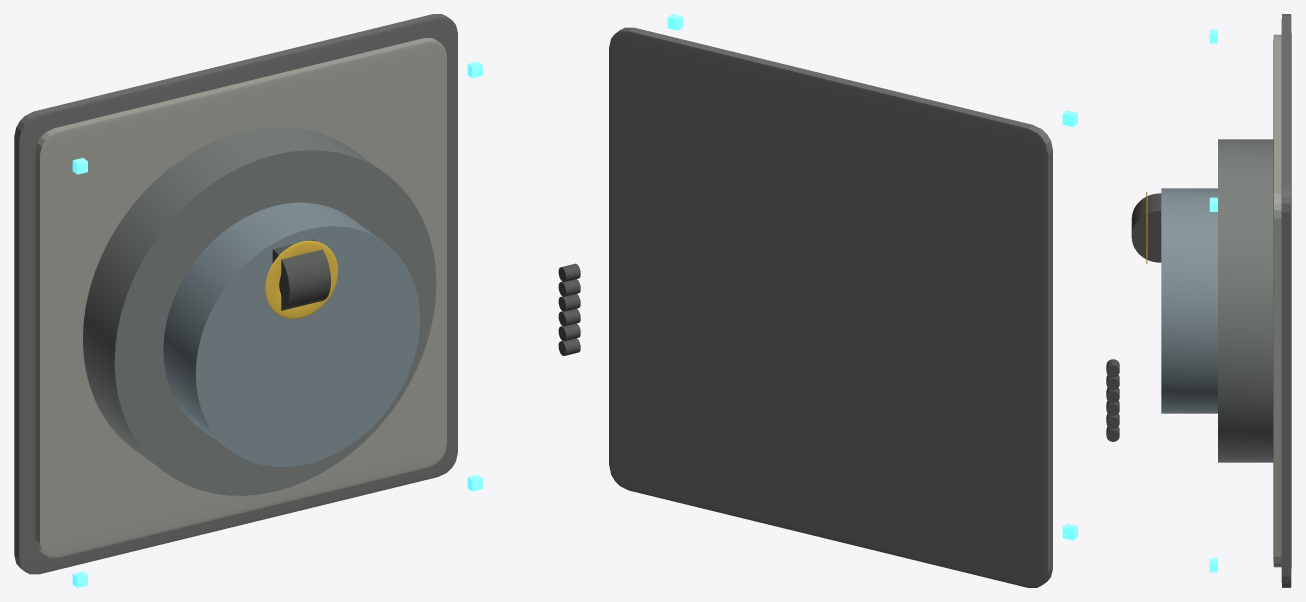
The model's file is b-31-aa-turret-lod2.glb.
3 views of the same model, side by side, from view 1: azimuth 30°, elevation 25°; view 2: azimuth 150°, elevation 25°; view 3: azimuth 270°, elevation 25° (orthographic). The views are drawn at different scales.
Visible parts, largest first — view 1: foundation_inner_pad, turret_base, primary_turret_yaw, foundation, ammo_drum_1.5_vessel, ammo_drum_1.5_ring_high; view 2: foundation; view 3: turret_base, primary_turret_yaw, foundation, foundation_inner_pad, ammo_drum_1.5_vessel.
Part boxes in pixels (x1=…): foundation_inner_pad: x1=35, y1=38, x2=446, y2=557; turret_base: x1=83, y1=127, x2=436, y2=495; primary_turret_yaw: x1=163, y1=202, x2=419, y2=467; foundation: x1=14, y1=14, x2=457, y2=574; ammo_drum_1.5_vessel: x1=272, y1=239, x2=330, y2=310; ammo_drum_1.5_ring_high: x1=265, y1=240, x2=337, y2=318; foundation: x1=609, y1=27, x2=1052, y2=587; turret_base: x1=1218, y1=139, x2=1273, y2=462; primary_turret_yaw: x1=1161, y1=188, x2=1217, y2=413; foundation: x1=1281, y1=14, x2=1291, y2=587; foundation_inner_pad: x1=1273, y1=34, x2=1281, y2=567; ammo_drum_1.5_vessel: x1=1131, y1=193, x2=1161, y2=262.
Size of what is drawn, in the model's own units: 9.45 by 9 by 3.77.
